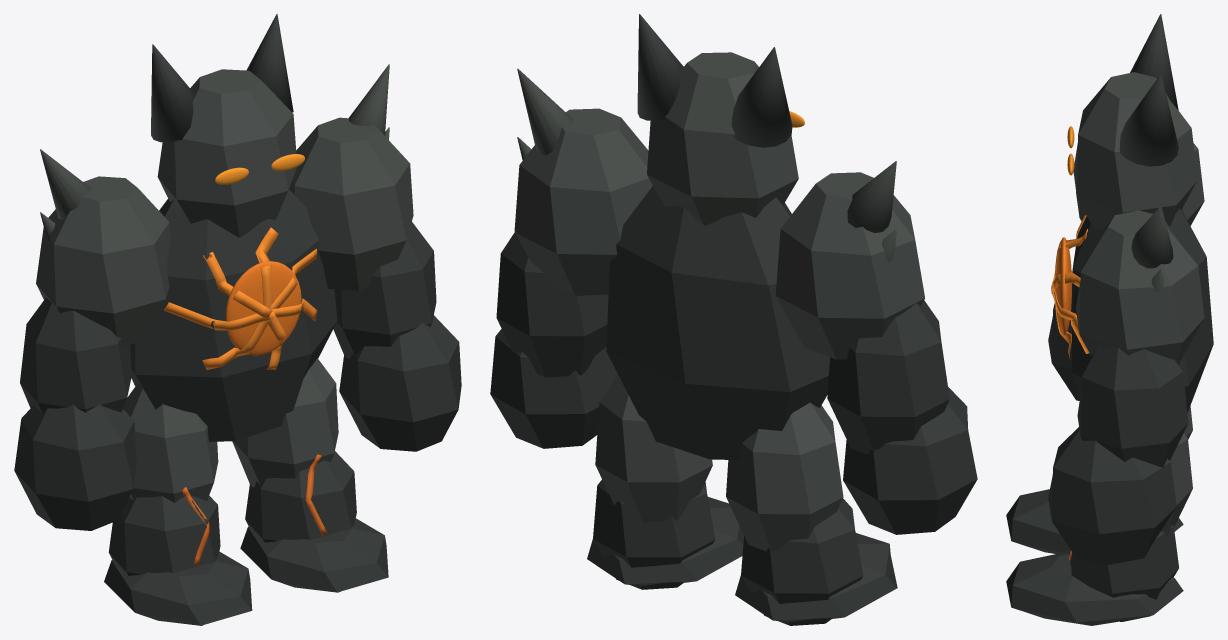
The model's file is terramight.glb.
The picture shows the model from 3 angles, left to right: view 1: azimuth 30°, elevation 25°; view 2: azimuth 150°, elevation 25°; view 3: azimuth 270°, elevation 25°; orthographic projection. The views are drawn at different scales.
Parts seen in each view (by area): view 1: surface_703, surface_707, surface_720, surface_715, surface_709, surface_717, surface_708, surface_716, surface_704, surface_705, surface_706, surface_714 (+11 smaller); view 2: surface_703, surface_707, surface_715, surface_720, surface_708, surface_704, surface_709, surface_716, surface_712, surface_717, surface_705, surface_713 (+6 smaller); view 3: surface_715, surface_717, surface_720, surface_716, surface_714, surface_703, surface_713, tip_724, surface_706, tip_719, tip_723, surface_712 (+4 smaller).
Boxes of the visible parts, left/top/right/bottom form: surface_703: left=130, top=189, right=337, bottom=441; surface_707: left=36, top=176, right=170, bottom=347; surface_720: left=157, top=69, right=296, bottom=237; surface_715: left=289, top=117, right=413, bottom=290; surface_709: left=14, top=404, right=136, bottom=530; surface_717: left=339, top=315, right=461, bottom=451; surface_708: left=20, top=297, right=131, bottom=413; surface_716: left=333, top=222, right=436, bottom=359; surface_704: left=123, top=383, right=218, bottom=502; surface_705: left=108, top=495, right=220, bottom=575; surface_706: left=104, top=551, right=252, bottom=625; surface_714: left=240, top=518, right=388, bottom=592; surface_703: left=606, top=186, right=829, bottom=460; surface_707: left=775, top=172, right=924, bottom=359; surface_715: left=514, top=108, right=652, bottom=295; surface_720: left=647, top=52, right=798, bottom=225; surface_708: left=827, top=300, right=949, bottom=454; surface_704: left=726, top=402, right=843, bottom=551; surface_709: left=843, top=387, right=977, bottom=534; surface_716: left=496, top=232, right=608, bottom=377; surface_712: left=595, top=374, right=712, bottom=522; surface_717: left=490, top=329, right=617, bottom=448; surface_705: left=741, top=498, right=863, bottom=625; surface_713: left=593, top=479, right=715, bottom=589; surface_715: left=1076, top=210, right=1204, bottom=364; surface_717: left=1048, top=427, right=1176, bottom=564; surface_720: left=1073, top=72, right=1197, bottom=229; surface_716: left=1077, top=345, right=1188, bottom=468; surface_714: left=1006, top=551, right=1183, bottom=625; surface_703: left=1067, top=208, right=1213, bottom=413; surface_713: left=1069, top=525, right=1178, bottom=621; tip_724: left=1119, top=74, right=1178, bottom=166; surface_706: left=1006, top=489, right=1183, bottom=553; tip_719: left=1131, top=206, right=1173, bottom=268; tip_723: left=1130, top=14, right=1178, bottom=110; surface_712: left=1161, top=433, right=1192, bottom=536.
Bounding box in the file's own units: 2.33 × 2.75 × 0.9794.
